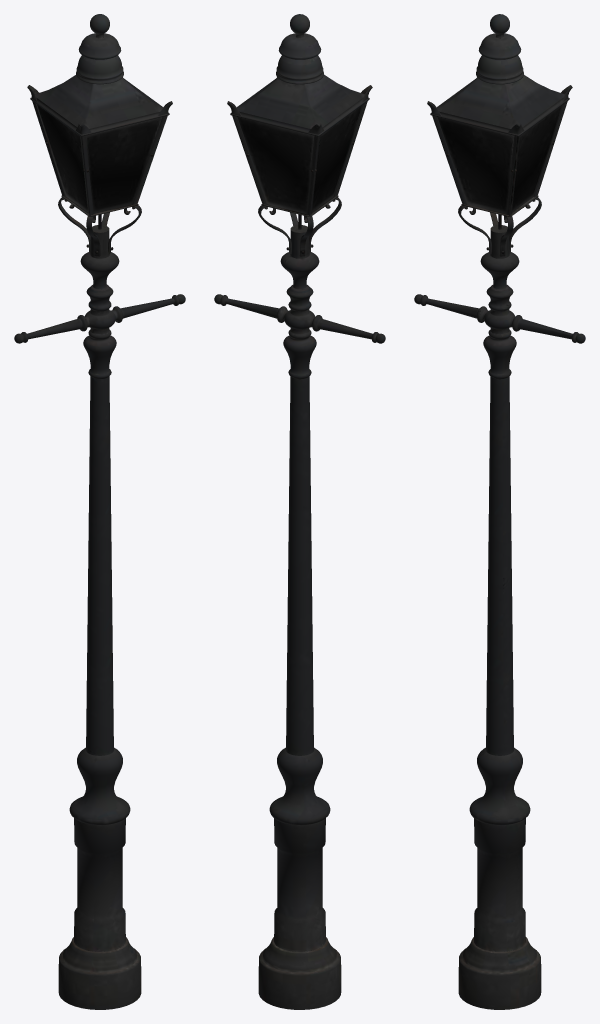
Rendered from street_lamp.glb.
3 renders of one model, left to right at view 1: azimuth 30°, elevation 25°; view 2: azimuth 150°, elevation 25°; view 3: azimuth 330°, elevation 25°, orthographic.
Parts seen in each view (by area): view 1: street_lamp; view 2: street_lamp; view 3: street_lamp.
Part boxes in pixels (x1=…): street_lamp: x1=14, y1=14, x2=185, y2=1009; street_lamp: x1=214, y1=14, x2=385, y2=1009; street_lamp: x1=414, y1=14, x2=585, y2=1009.
Bounding box in the file's own units: 0.7097 × 3.9 × 0.3895.
1 material, 1 textured.
